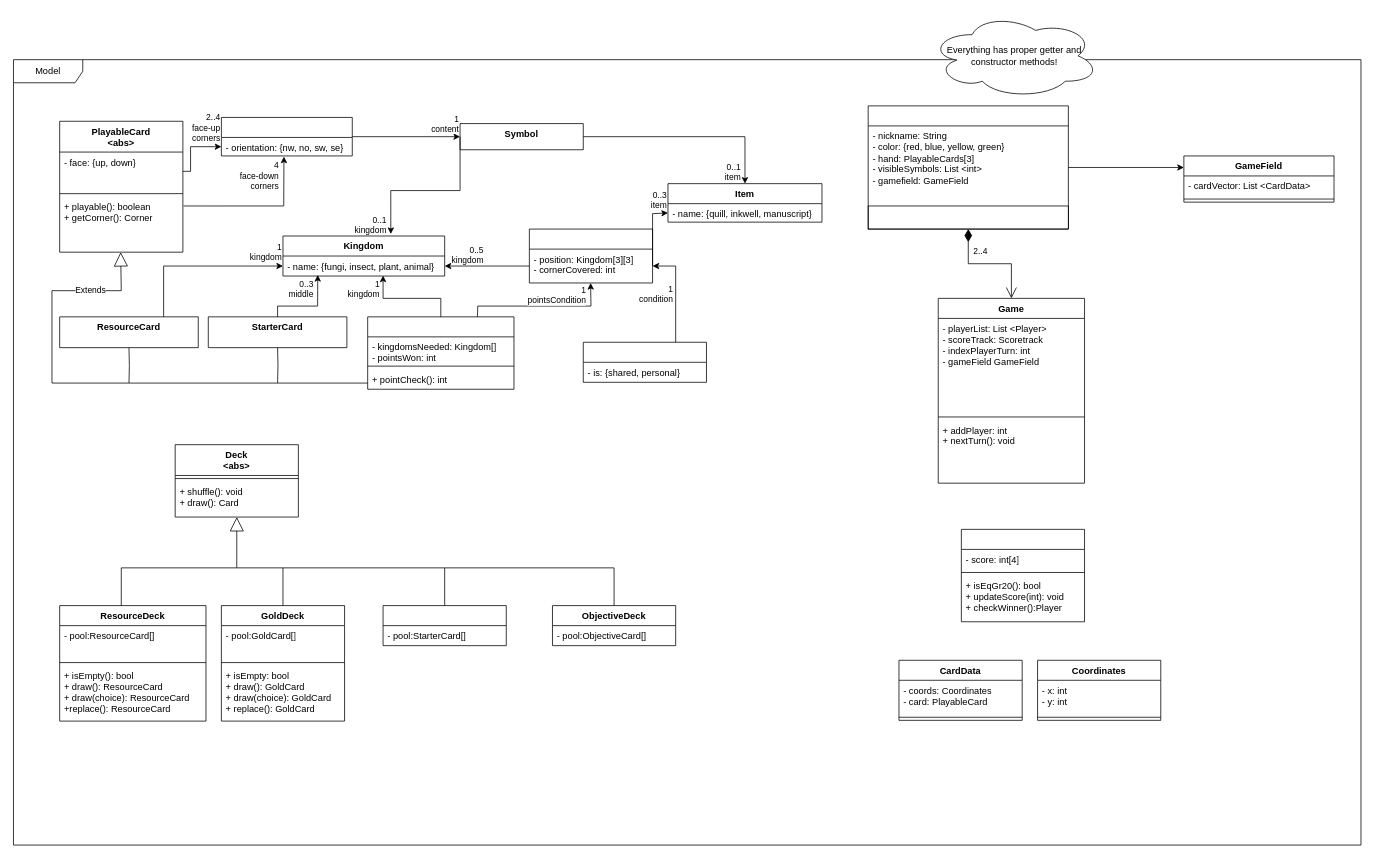
Image size: 1374x859. Some labels were removed from this diagram. Each missing label, with the box of its shape:
+ getVisibleSymbols(): List <VisibleSymbols>: (867, 205, 1068, 229)
Condition: (529, 228, 653, 283)
Corner: (221, 117, 352, 156)
GoldCard: (367, 316, 514, 389)
ObjectiveCard: (583, 341, 706, 382)
Player: (867, 105, 1068, 229)
Scoretrack: (961, 529, 1085, 622)
StarterDeck: (382, 605, 506, 646)
